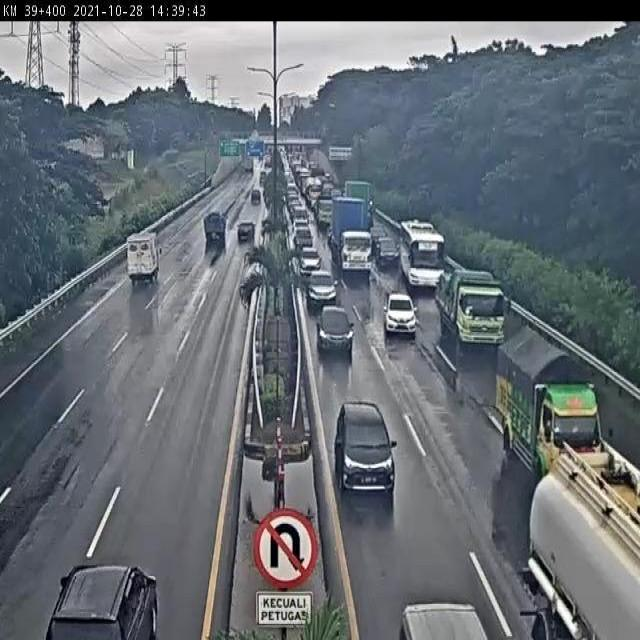big bus: (398, 219, 444, 288)
big truck: (332, 196, 373, 277)
car: (335, 401, 400, 495), (313, 300, 352, 348), (380, 288, 415, 332), (304, 260, 332, 299), (375, 237, 398, 267), (297, 236, 320, 263), (236, 216, 258, 243)
mid truck: (430, 263, 506, 345)
small truck: (122, 233, 159, 283), (201, 212, 226, 244)
truck-m-: (492, 329, 609, 476)
